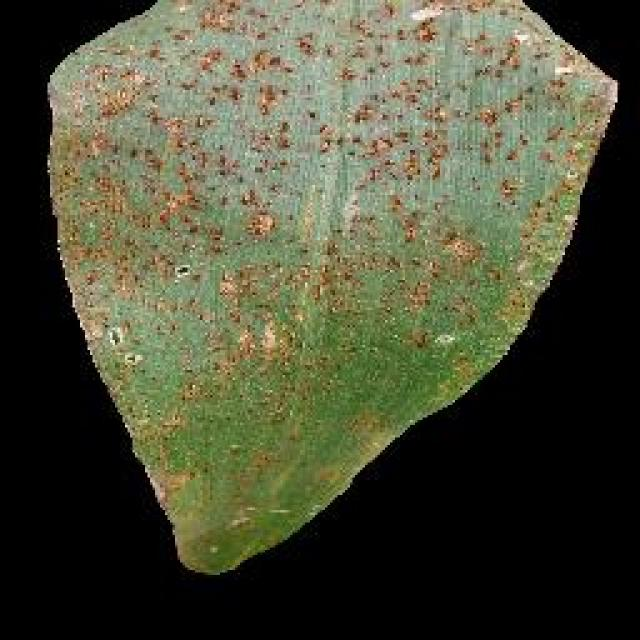Corn Common Rust: (160, 150, 508, 437)
